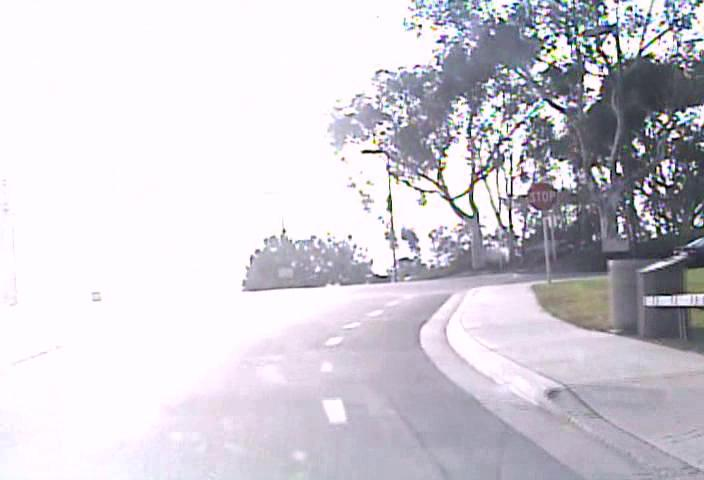stop: (527, 180, 558, 211)
